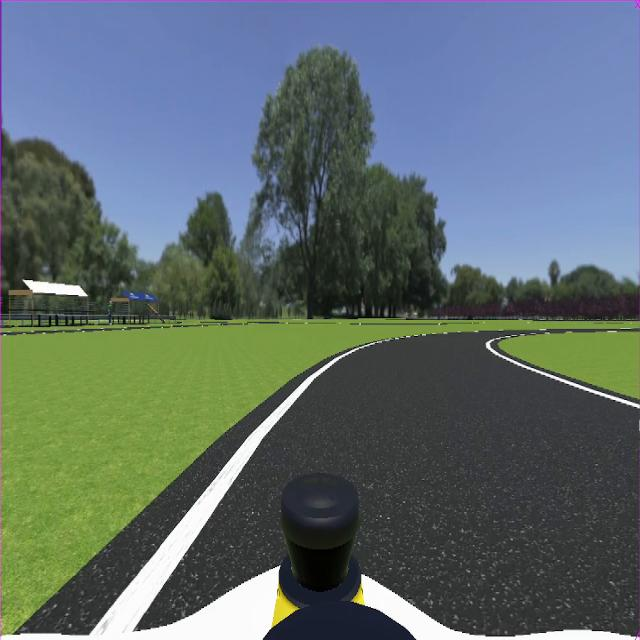road: (138, 335, 638, 634)
solid_line: (90, 344, 372, 636), (486, 340, 638, 410)
